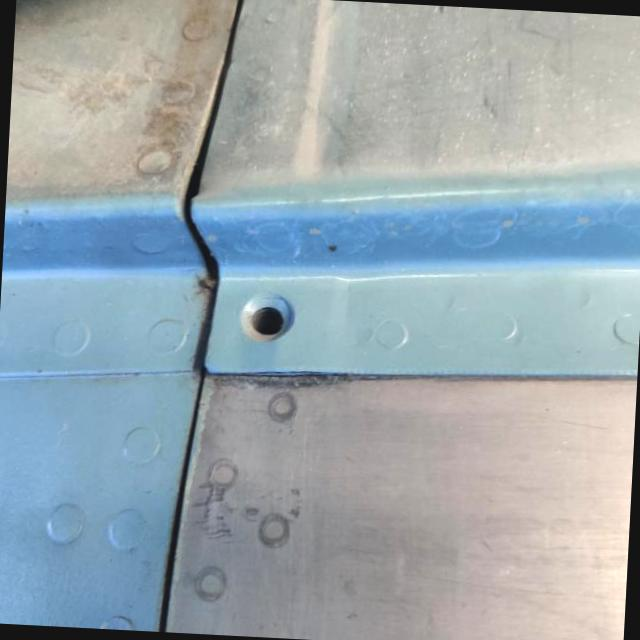Missing Fastener: (239, 290, 301, 348)
